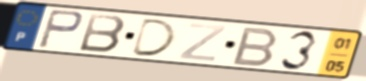3: (277, 30, 325, 72)
B: (76, 11, 128, 55), (229, 26, 281, 68)
D: (128, 17, 179, 58)
P: (35, 8, 86, 51)
Z: (176, 22, 229, 64)
